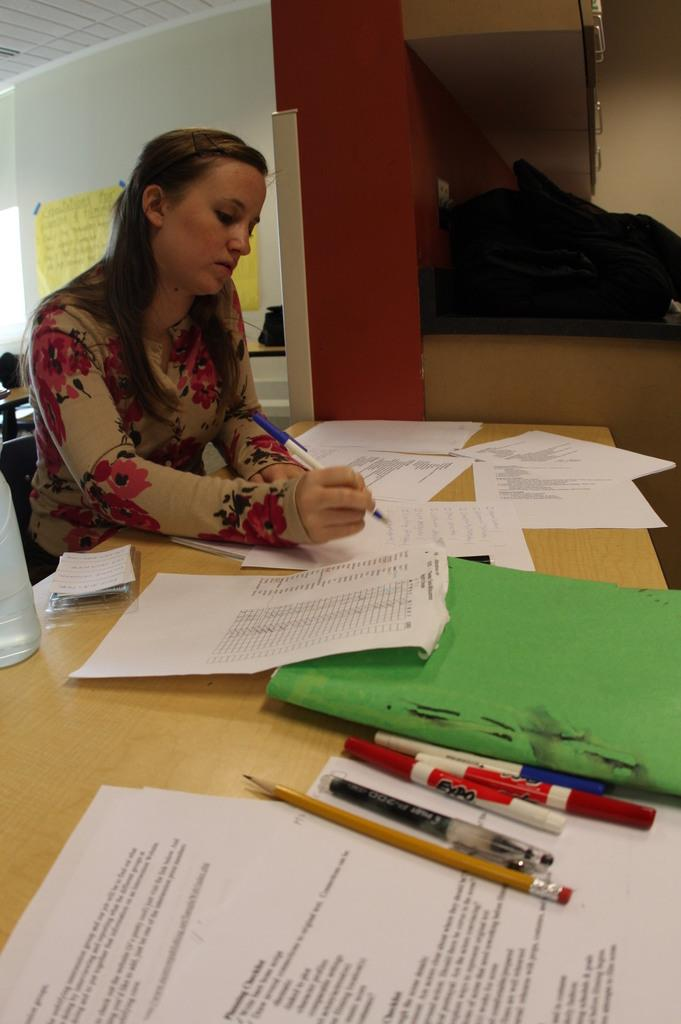pen: (317, 774, 557, 879), (340, 743, 566, 832), (412, 757, 659, 837), (254, 415, 389, 521), (369, 738, 613, 796)
